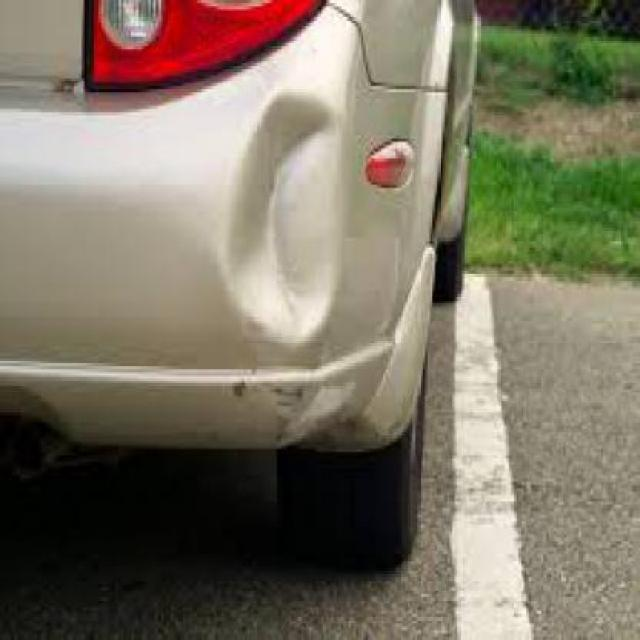dent: (235, 97, 342, 335)
